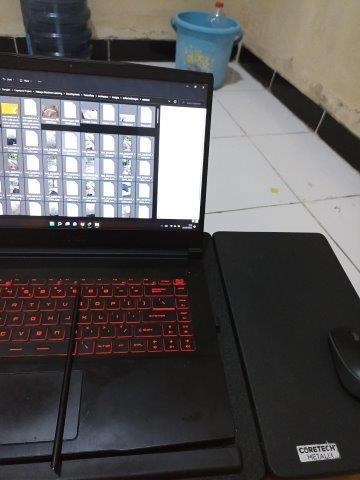sedotan: (52, 297, 78, 470)
